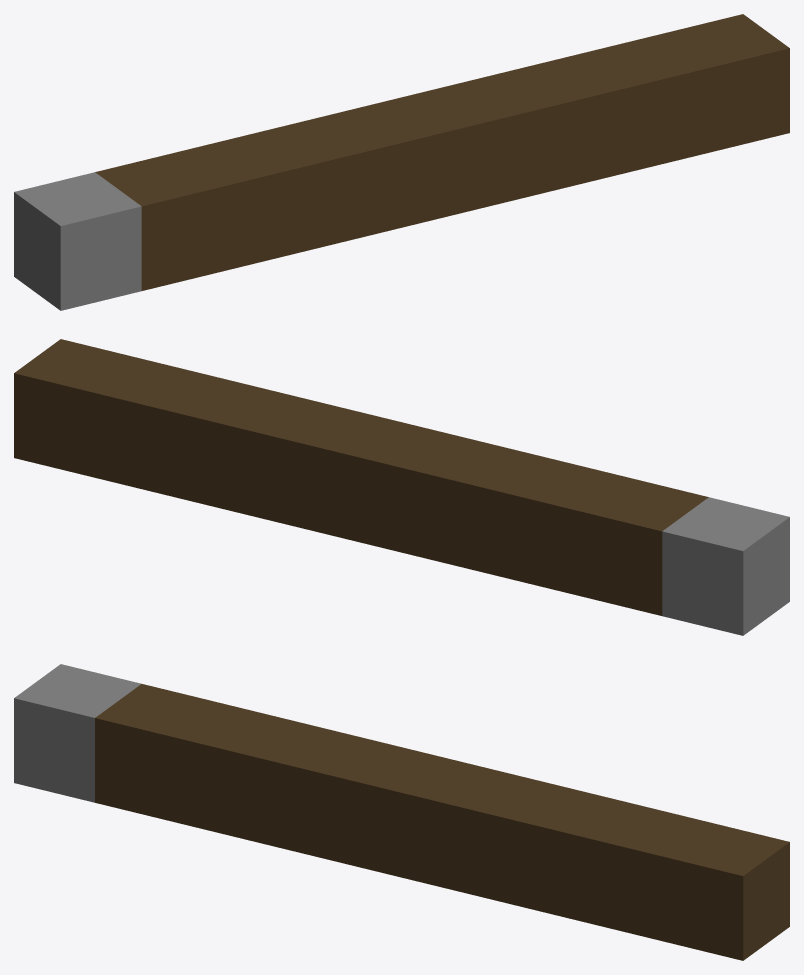
File: Bolt_Sobek.obj
3 renders of one model, top to bottom at view 1: azimuth 30°, elevation 25°; view 2: azimuth 150°, elevation 25°; view 3: azimuth 330°, elevation 25°, orthographic.
Size of the model in its own units: 0.9 by 0.1 by 0.1.
Materials: 1 (1 with a texture image).
